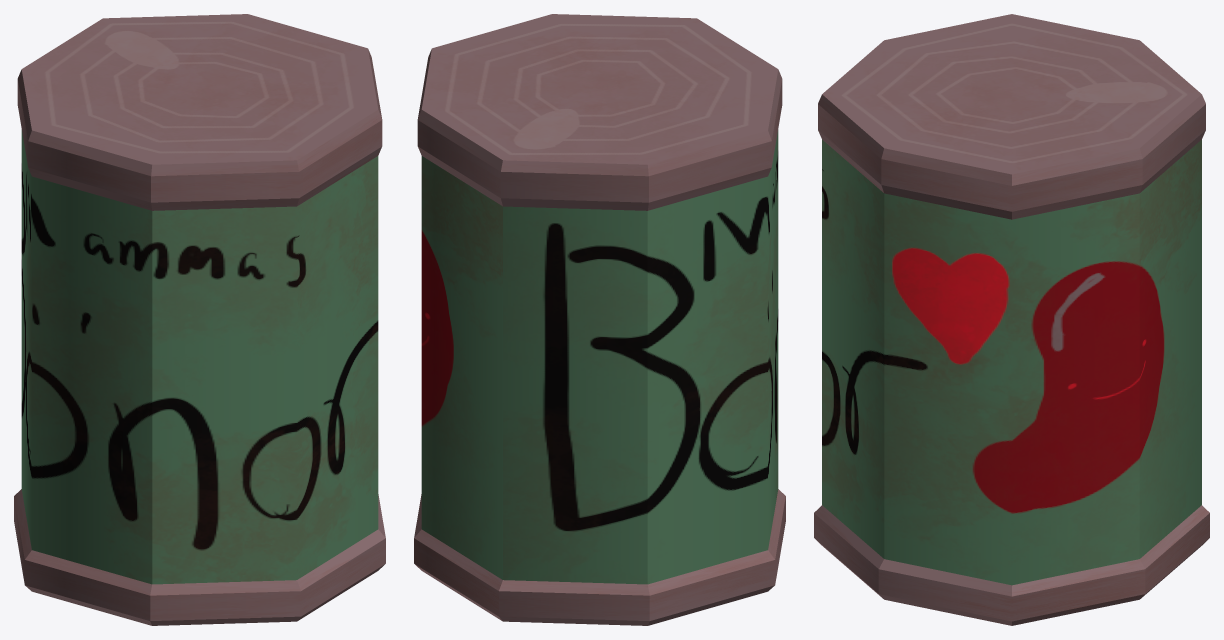
Rendered from beans.fbx.
The picture shows the model from 3 angles, left to right: view 1: azimuth 30°, elevation 25°; view 2: azimuth 150°, elevation 25°; view 3: azimuth 270°, elevation 25°; orthographic projection. The views are drawn at different scales.
Visible parts, largest first — view 1: pCube1; view 2: pCube1; view 3: pCube1.
Part boxes in pixels (<box>): pCube1: <box>14,14,385,625</box>; pCube1: <box>414,14,785,625</box>; pCube1: <box>814,14,1209,625</box>.
Bounding box in the file's own units: 1.96 × 2.47 × 1.96.
1 material, 1 textured.
